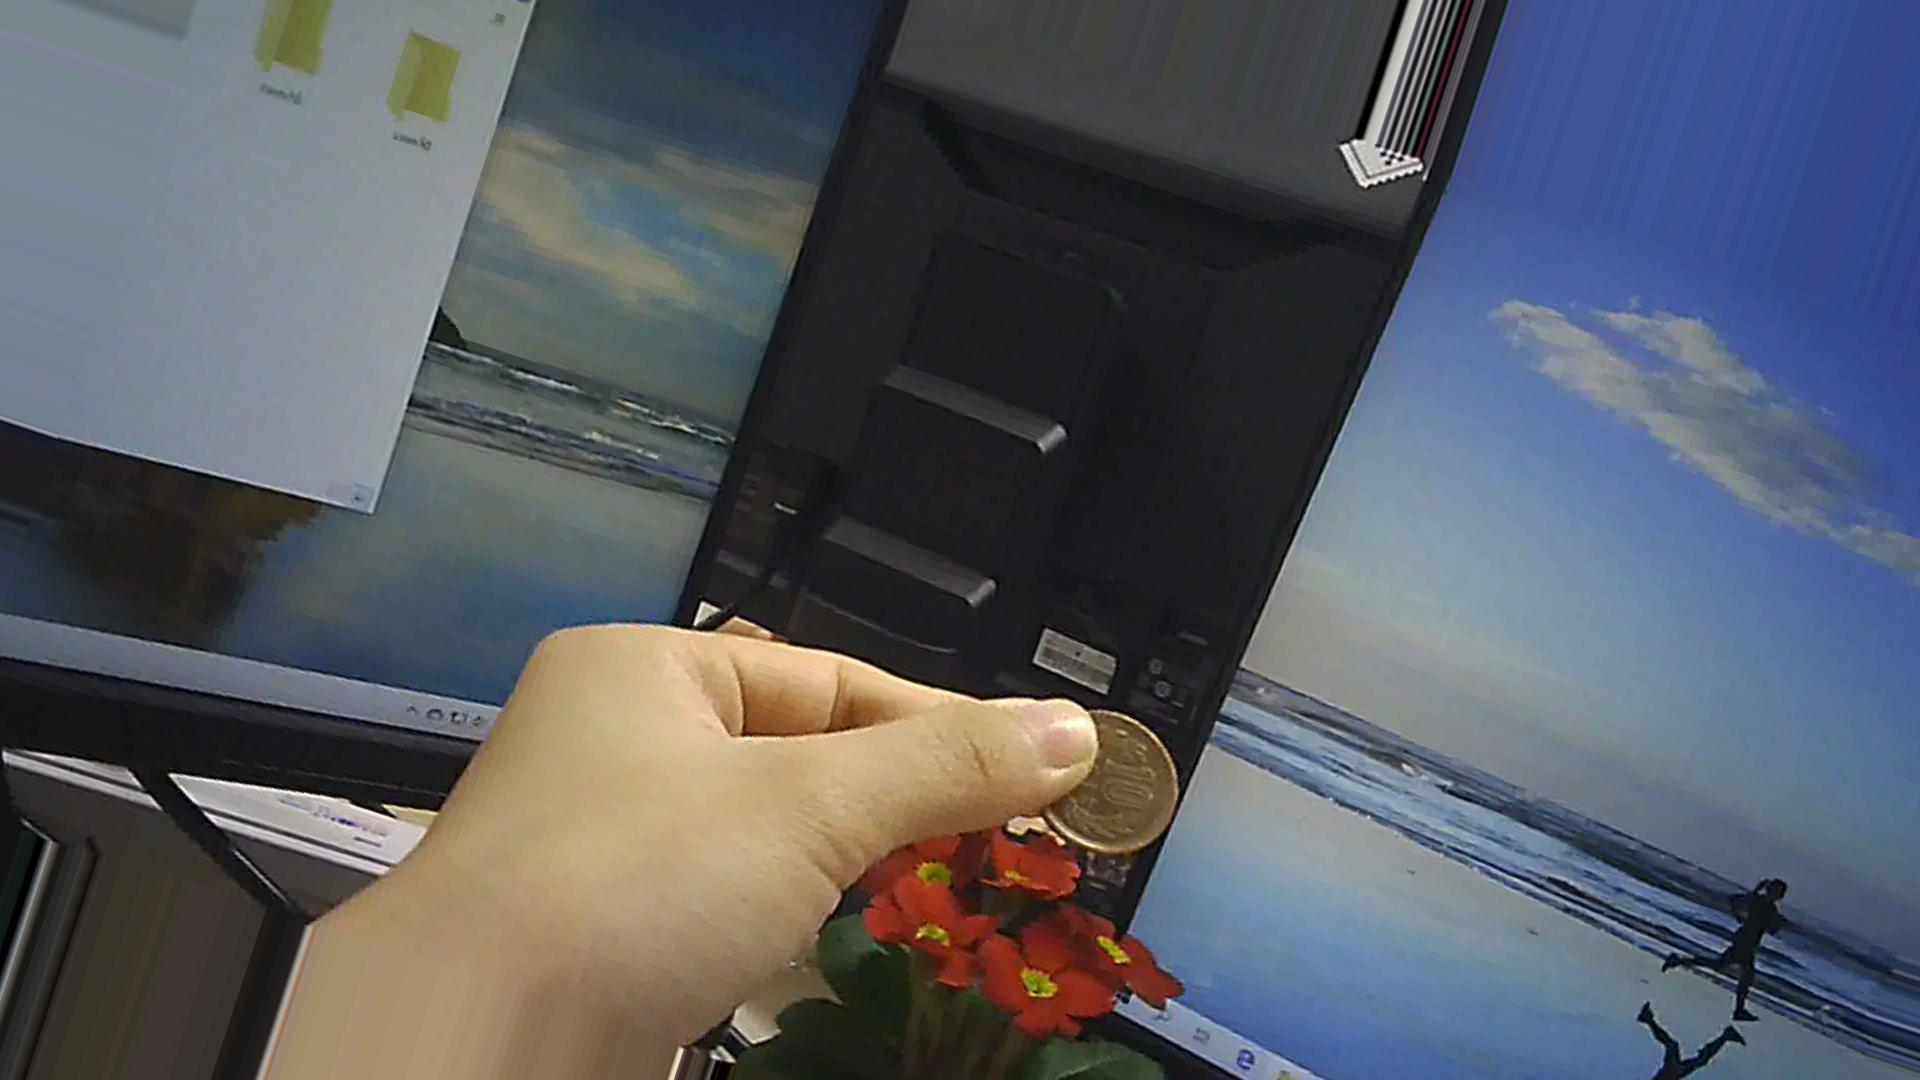10 Yen: (1026, 696, 1174, 861)
